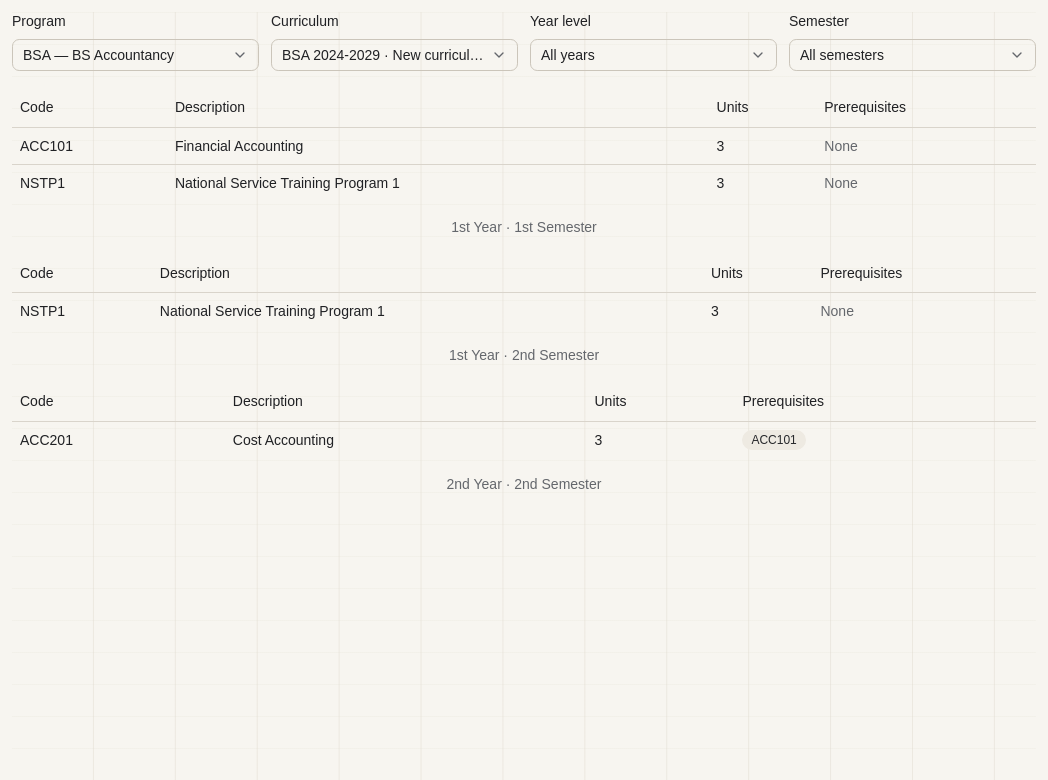
Test: CurriculumView › shows an empty state when the filters exclude every subject
The image size is (1048, 780).
Step 1. Click the dropdown named "Year level" → [654, 55], box [530,39,777,71]
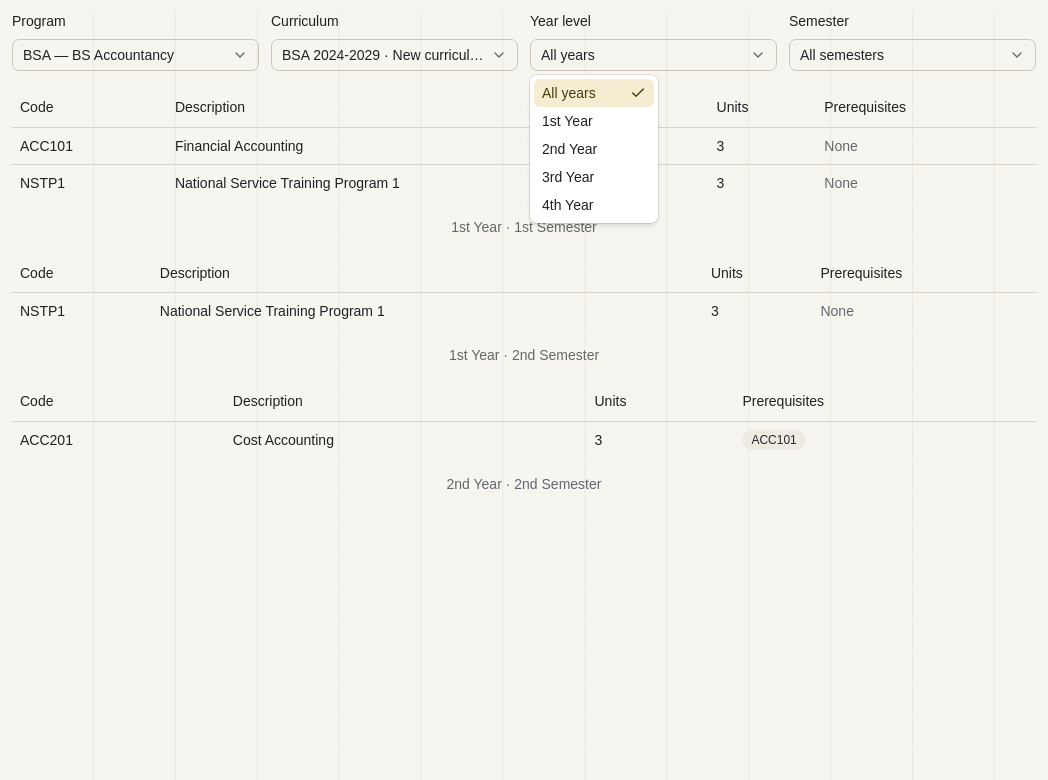
Step 2. Click the option "4th Year" → [568, 205], box [542,197,593,213]
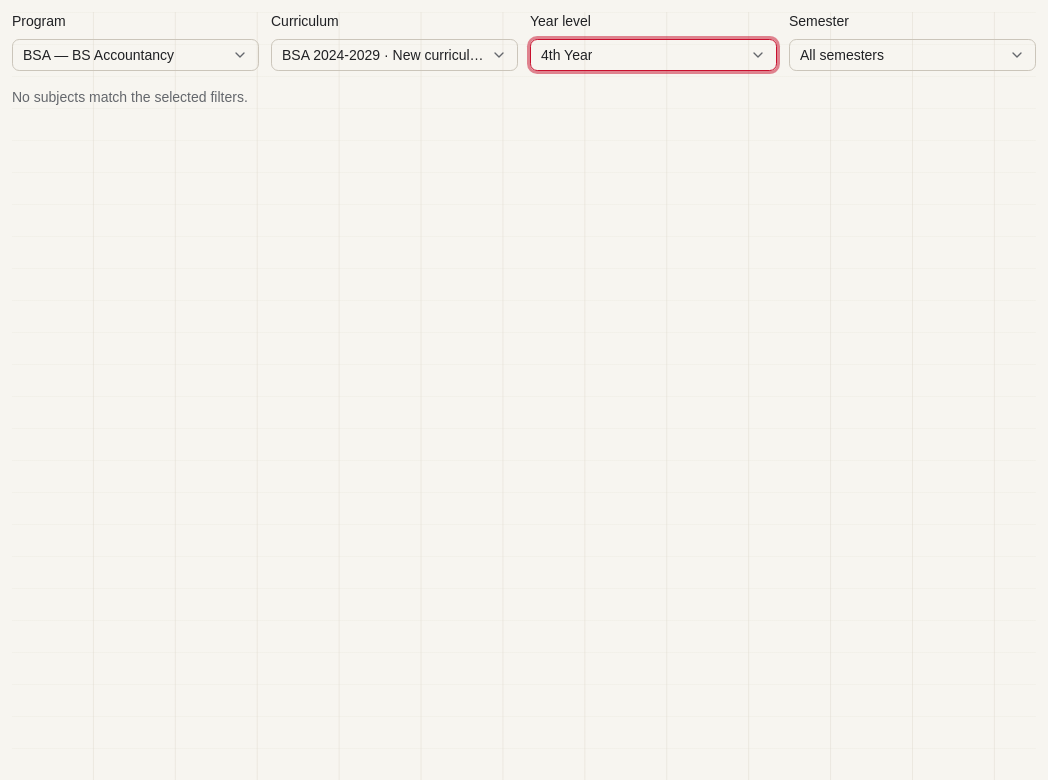
Check: the text "No subjects match the selected filters." is shown, box [12,89,248,105]
Check: the table is gone
